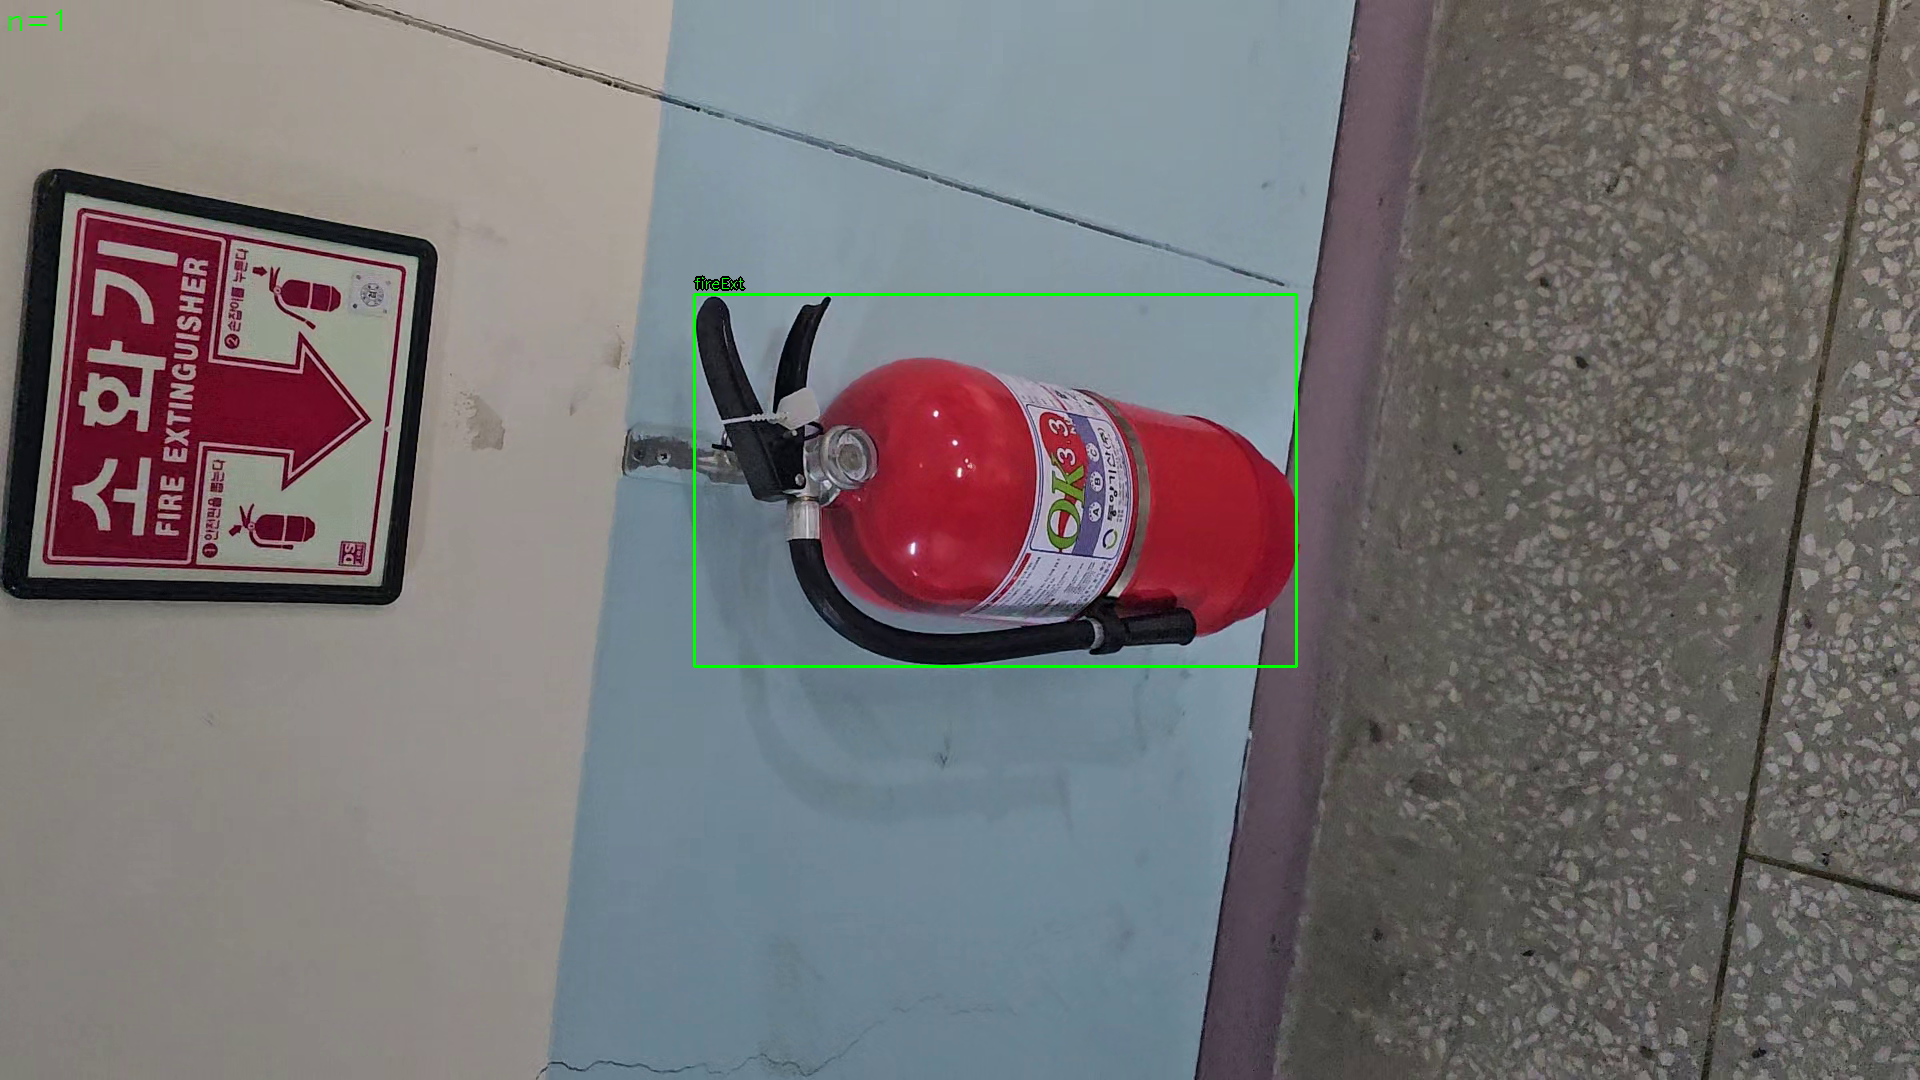lane: (694, 294, 1298, 667)
